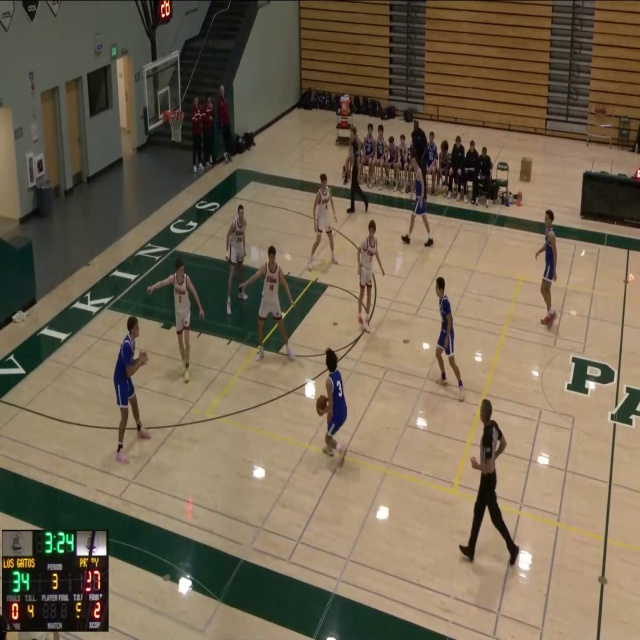Basketball: (316, 395, 329, 415)
